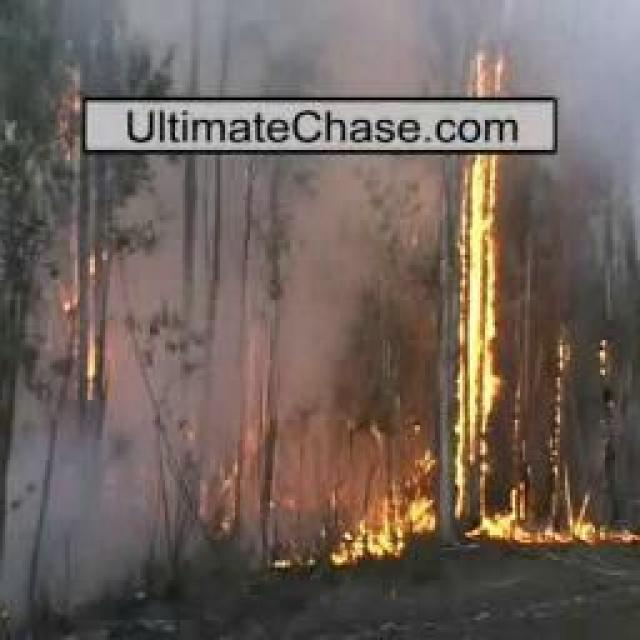Fire: (464, 32, 497, 538), (326, 448, 424, 561), (538, 508, 638, 547)
